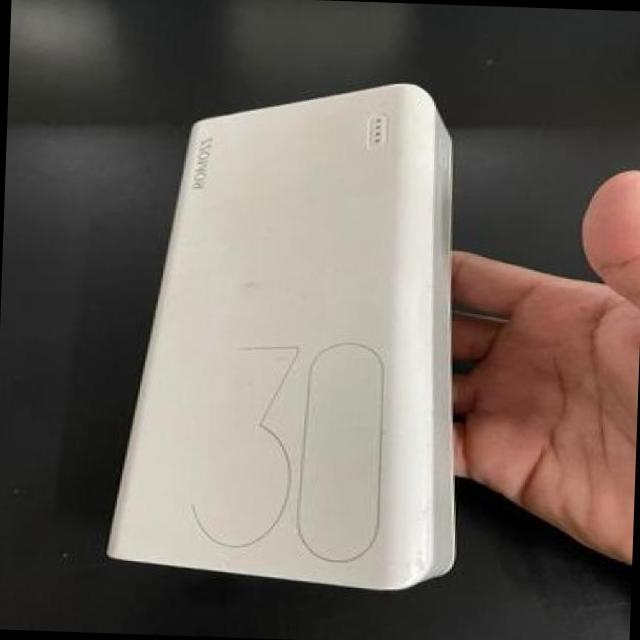power_bank: (90, 68, 492, 598)
